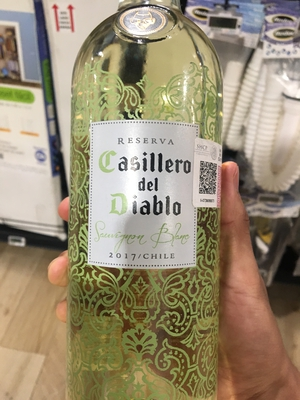casillero del diablo sauvignon blanc: (59, 8, 227, 400)
